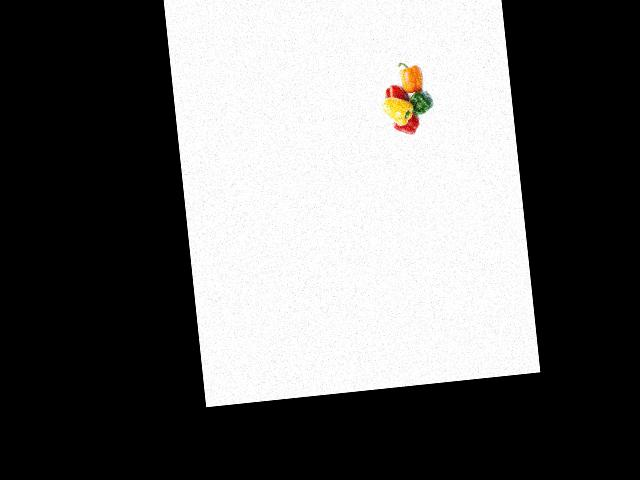bell_pepper: (402, 87, 438, 121)
